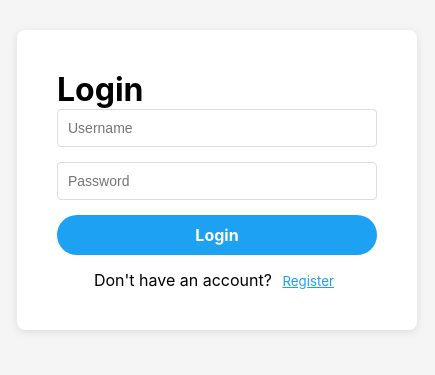
Login Component › displays error message on failed login
Step 1. Type "testuser" into the field with placeholder "Username" → [217, 128], box [57,109,377,147]
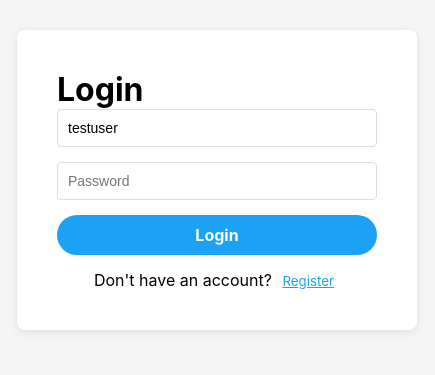
Step 2. Type "password" into the password field with placeholder "Password" → [217, 181], box [57,162,377,200]
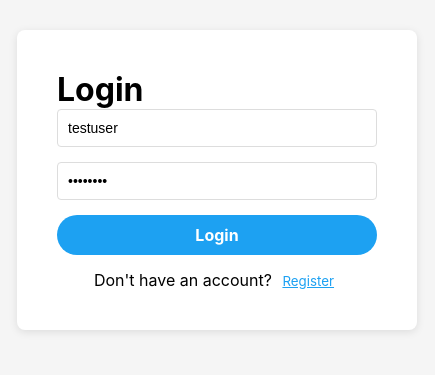
Step 3. Click the button "Login" → [217, 235], box [57,215,377,255]
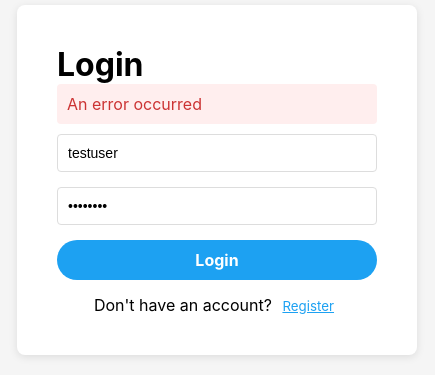
Expected: the text "An error occurred" is shown, [57,84,377,124]
